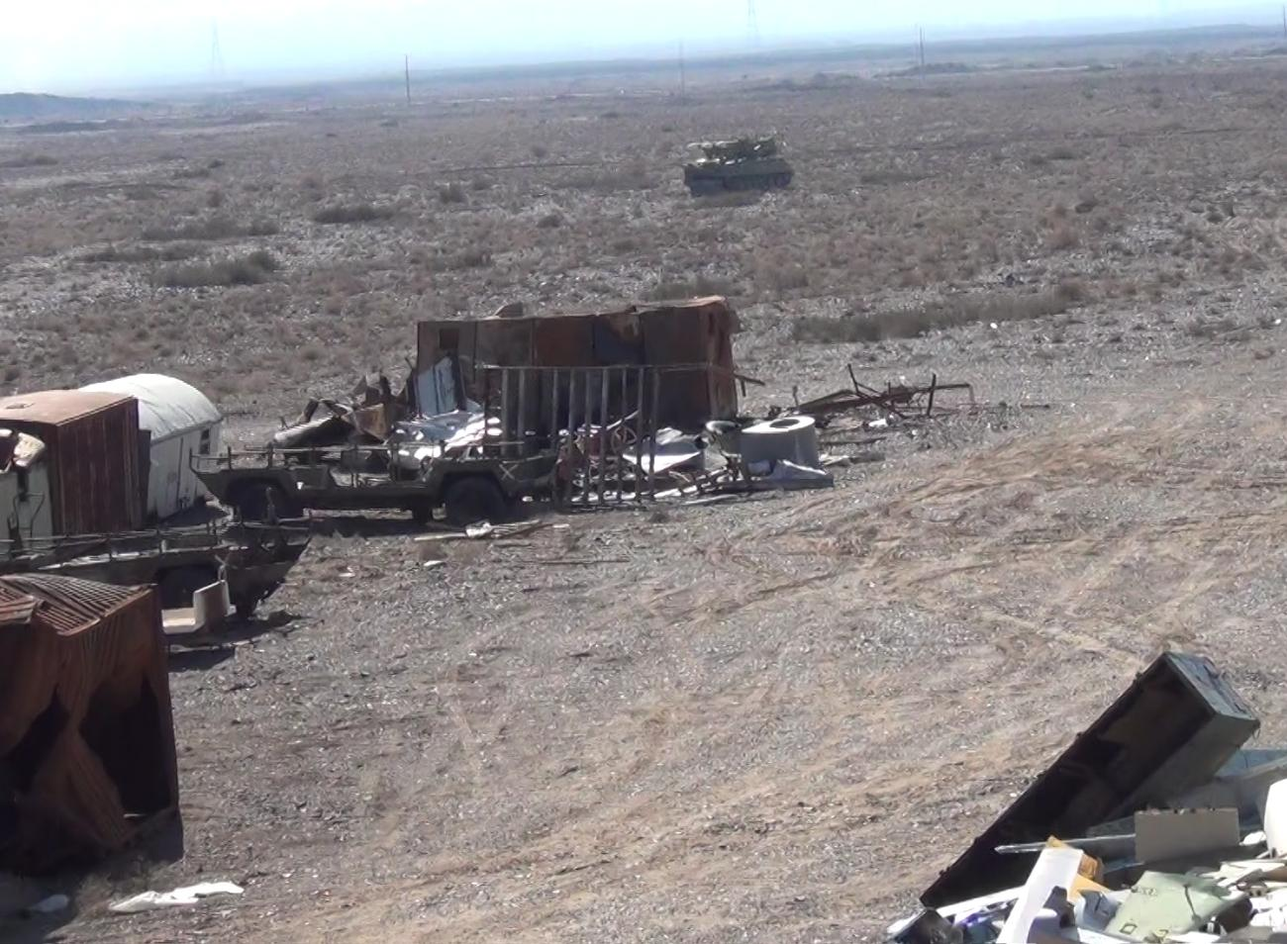armored_car: (679, 129, 792, 199)
